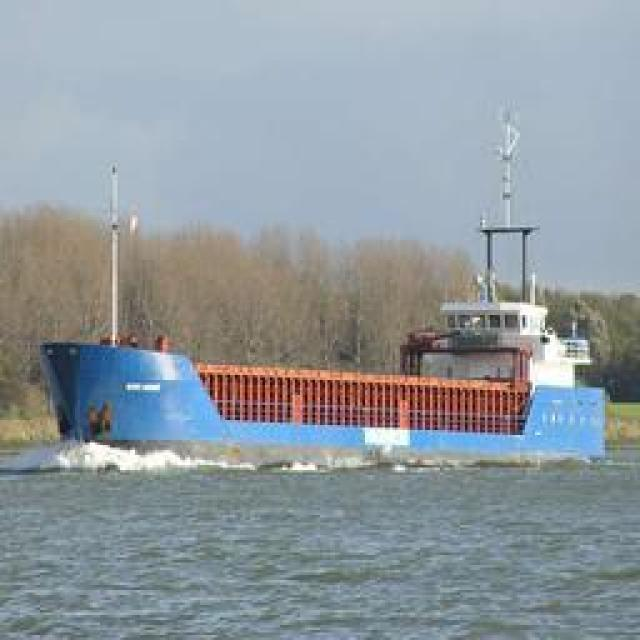ship2: (38, 110, 607, 470)
